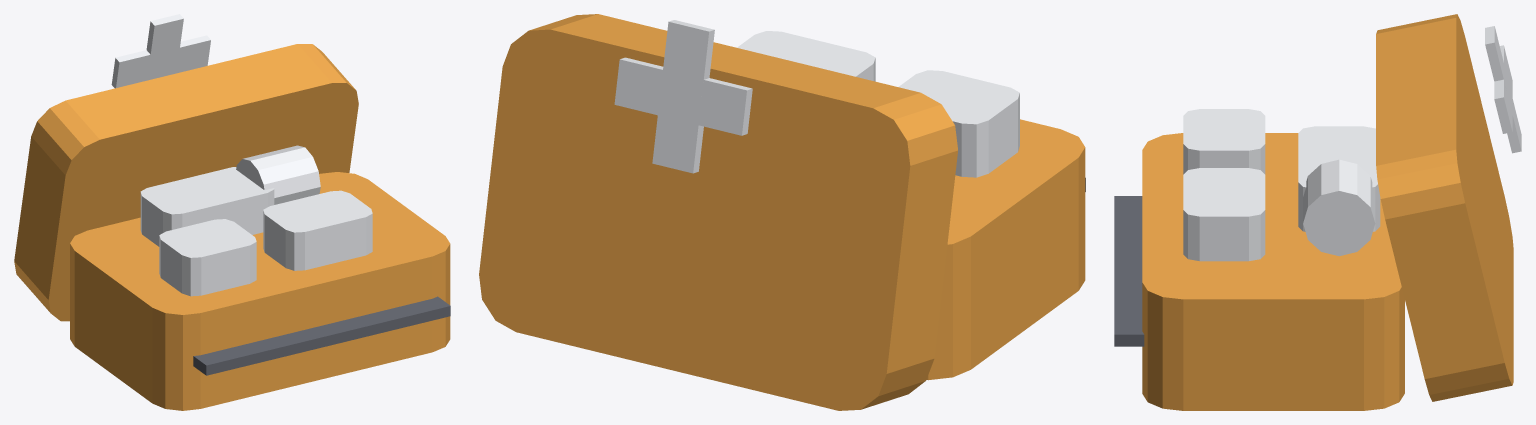
The model's file is backcountry-snowboarding-and-avalanche-safety-first-ai-6550a0e2__18938.glb.
3 views of the same model, side by side, from view 1: azimuth 30°, elevation 25°; view 2: azimuth 150°, elevation 25°; view 3: azimuth 270°, elevation 25° (orthographic). The views are drawn at different scales.
Visible parts, largest first — view 1: first-aid-kit; view 2: first-aid-kit; view 3: first-aid-kit.
Part boxes in pixels (bbox=[...]): first-aid-kit: bbox=[14, 14, 450, 410]; first-aid-kit: bbox=[479, 14, 1085, 410]; first-aid-kit: bbox=[1114, 14, 1521, 410].
Size of the model in its own units: 0.24 by 0.2003 by 0.2481.
